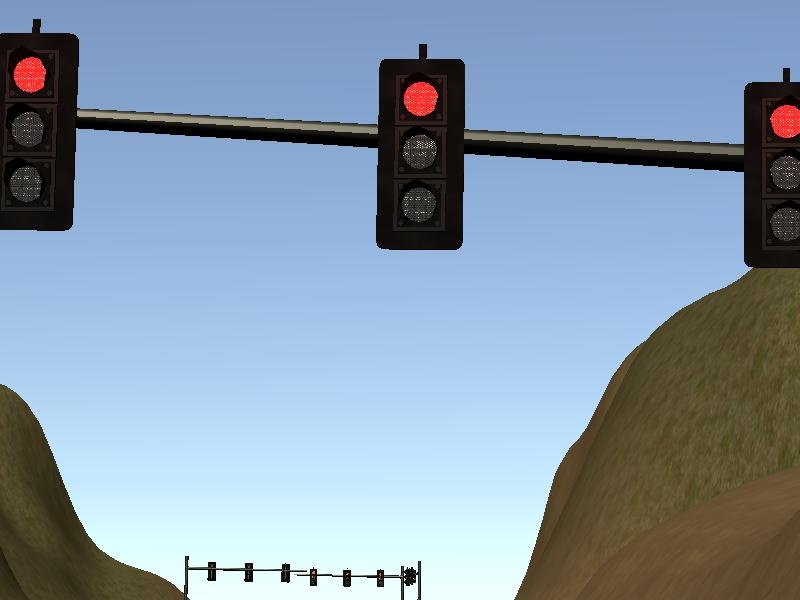red: (380, 60, 466, 252), (3, 35, 80, 231), (743, 83, 800, 269), (343, 571, 352, 588), (378, 571, 385, 588), (311, 570, 318, 587)
